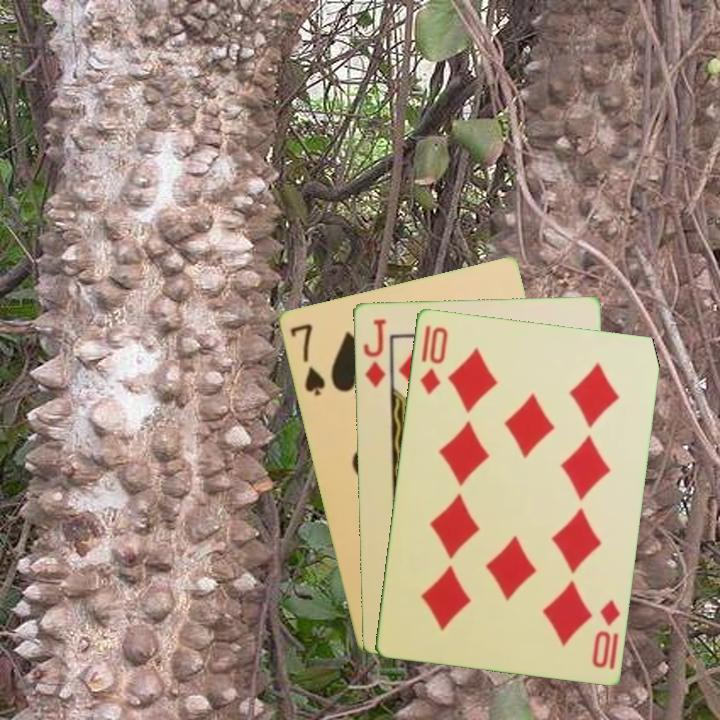10d: (588, 595, 623, 672), (416, 322, 450, 396)
7s: (286, 319, 328, 399)
Jd: (359, 315, 388, 391)
